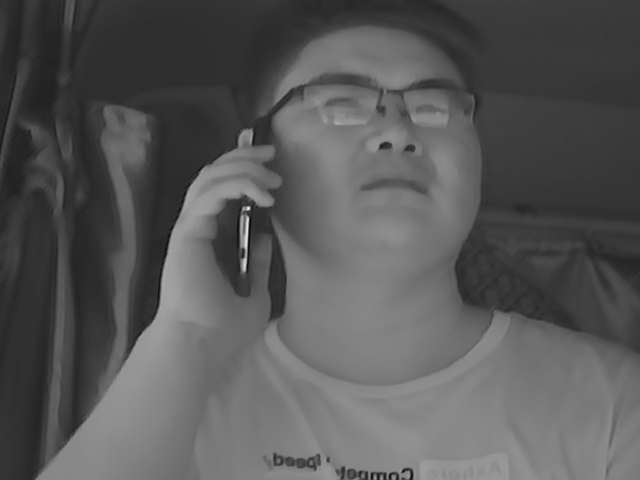hand: (150, 144, 284, 341)
